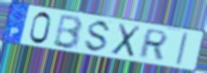0: (28, 11, 53, 45)
B: (51, 13, 85, 51)
I: (174, 31, 190, 67)
R: (136, 28, 170, 61)
S: (82, 19, 113, 54)
X: (109, 22, 142, 59)
